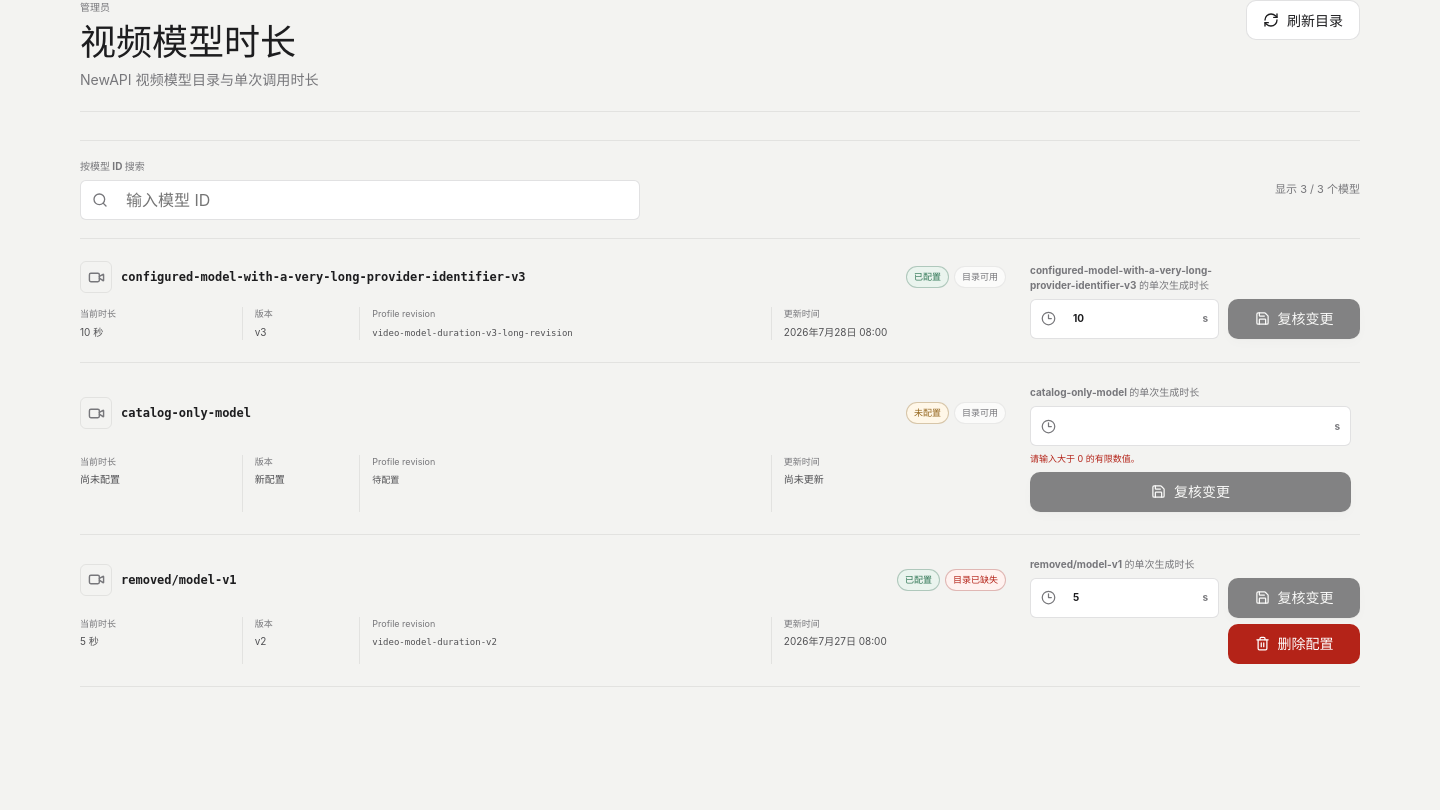
VideoModelAdminPage › reloads the latest version after an optimistic-lock conflict
Replace the text in the number field named "configured-model-with-a-very-long-provider-identifier-v3 的单次" with "12" at (1129, 319), box [1063, 300, 1195, 338]
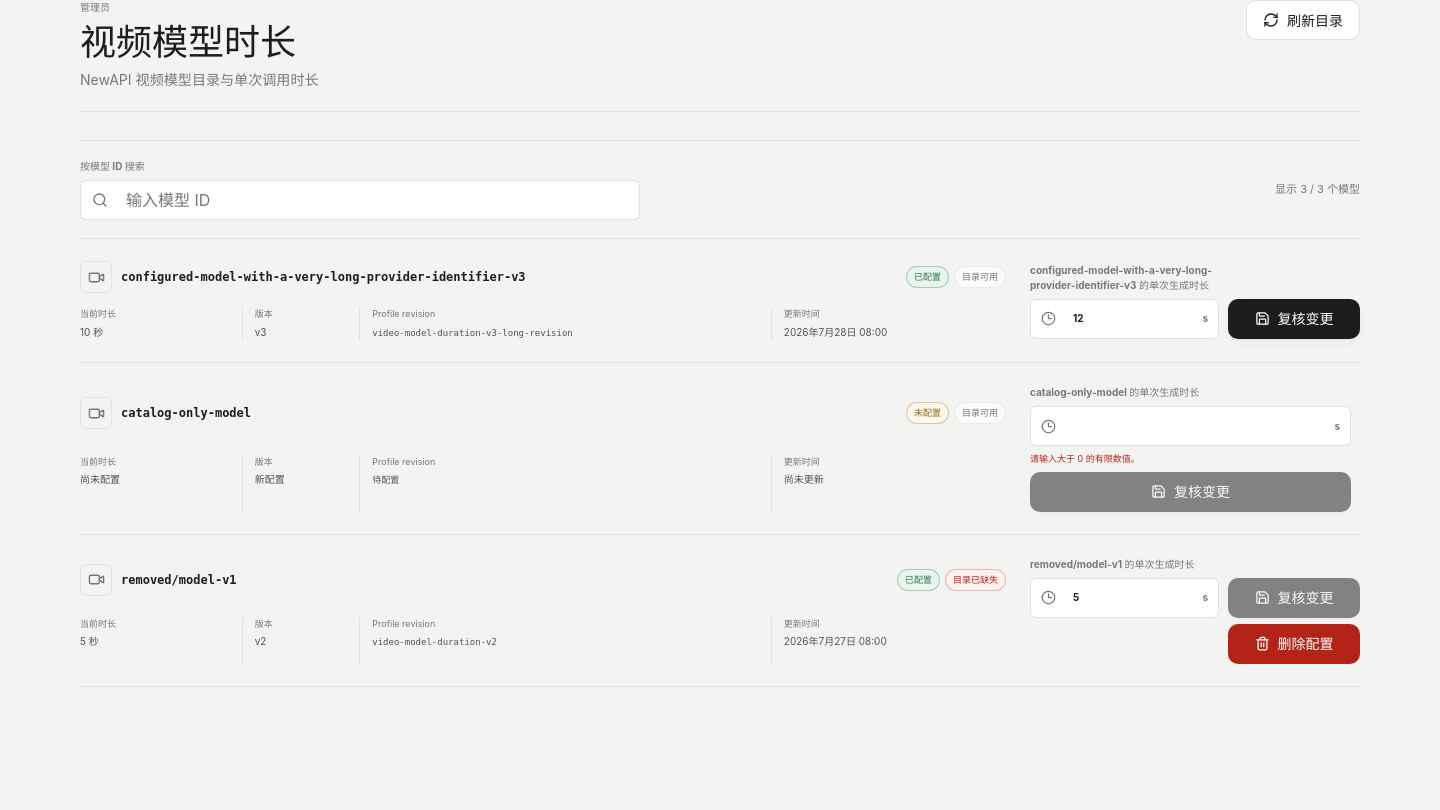
Click the button "复核变更" in the row of "10 秒" at (1294, 319), box [1228, 299, 1360, 339]
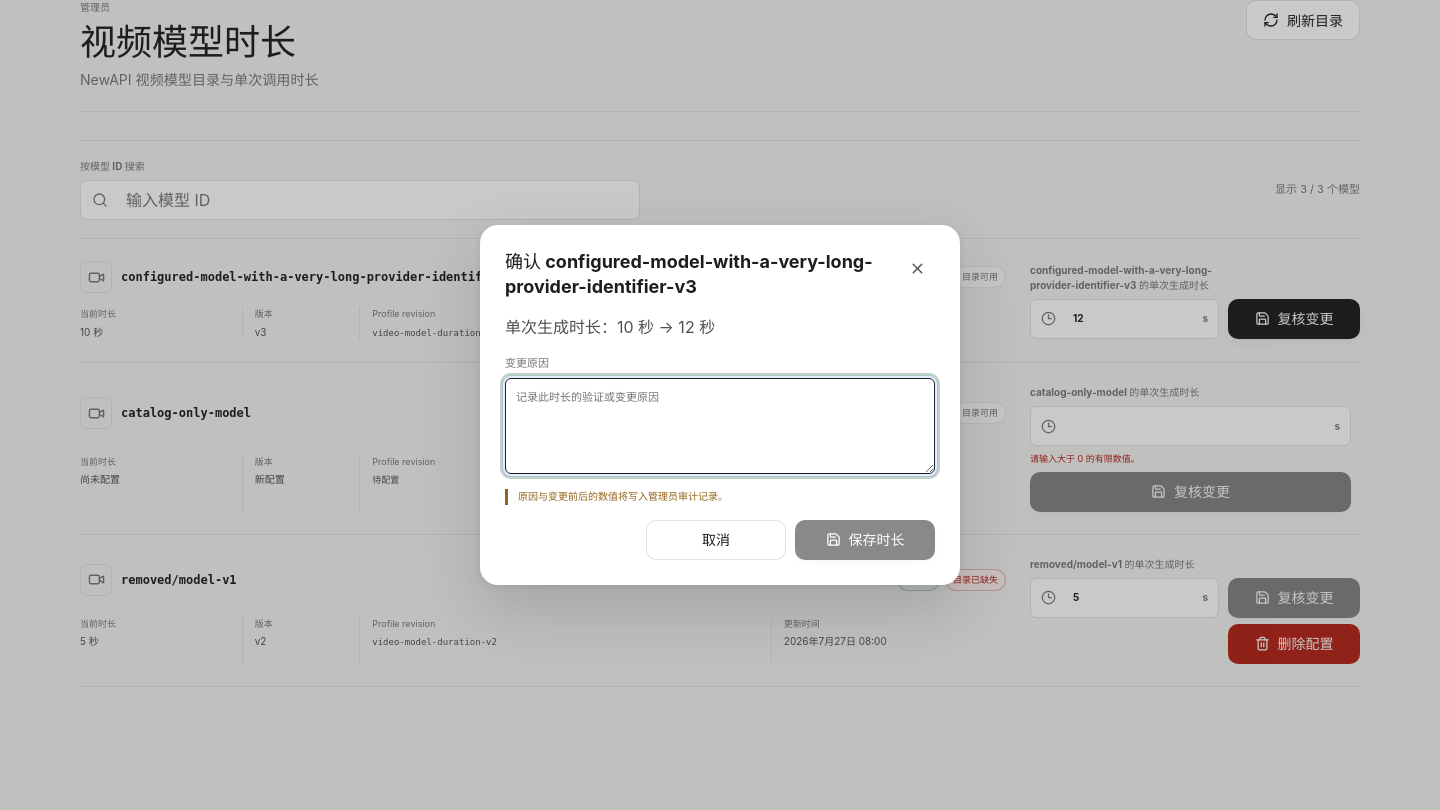
Type "冲突测试" into the text box labelled "变更原因" at (720, 426), box [505, 378, 935, 474]
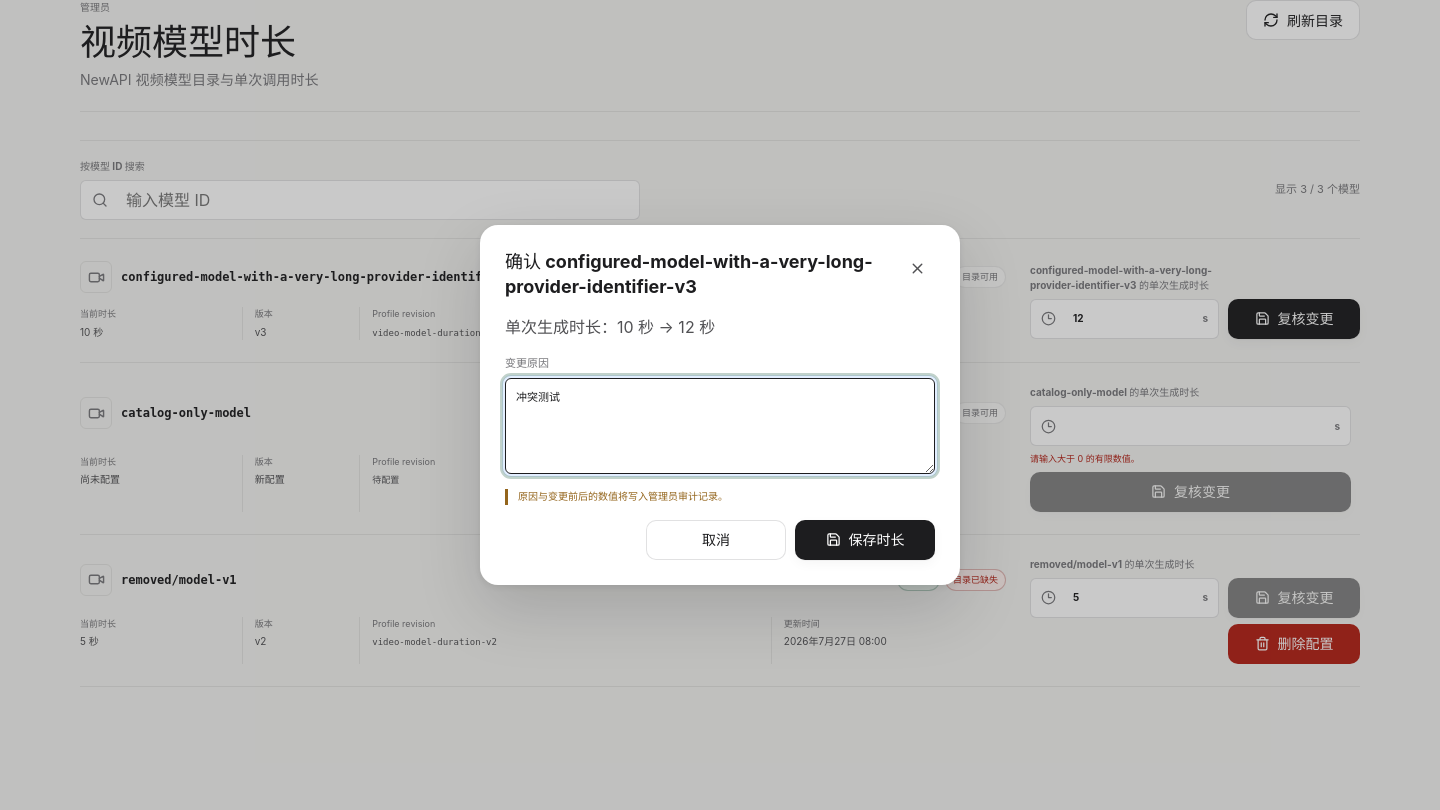
Click the button "保存时长" at (865, 540), box [795, 520, 935, 560]
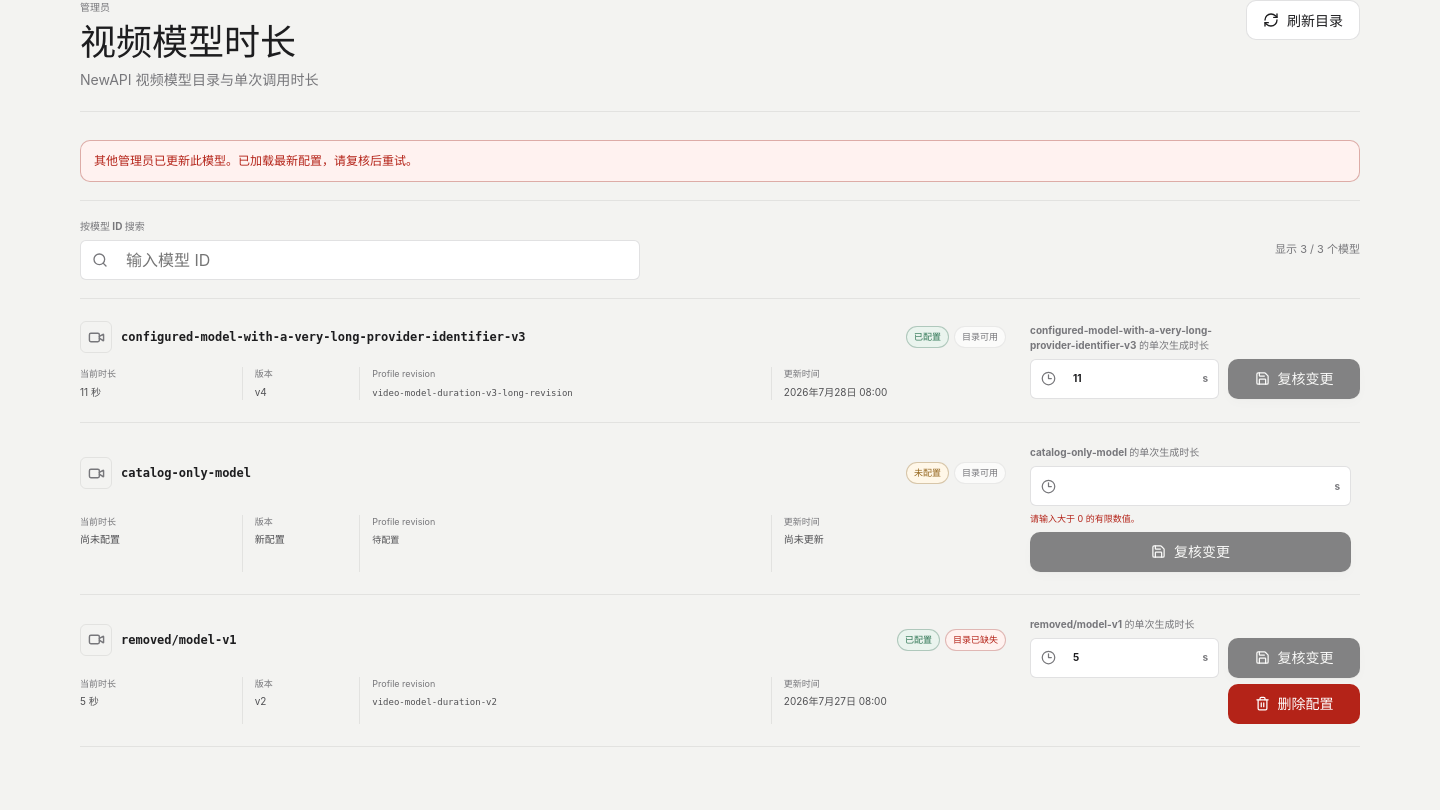
expect the 1st message shows "其他管理员已更新此模型": met, box [94, 153, 418, 168]
expect the text "v4" is shown: met, box [255, 386, 267, 398]
